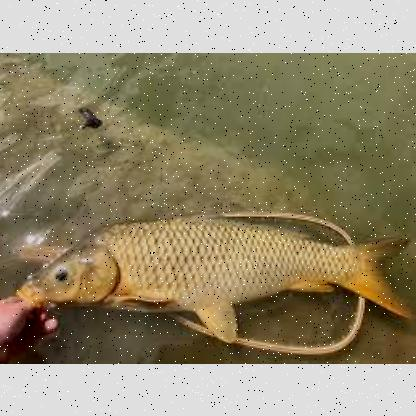ikan-mas: (26, 210, 414, 320)
